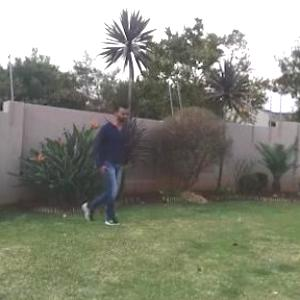follow: (92, 100, 127, 223)
